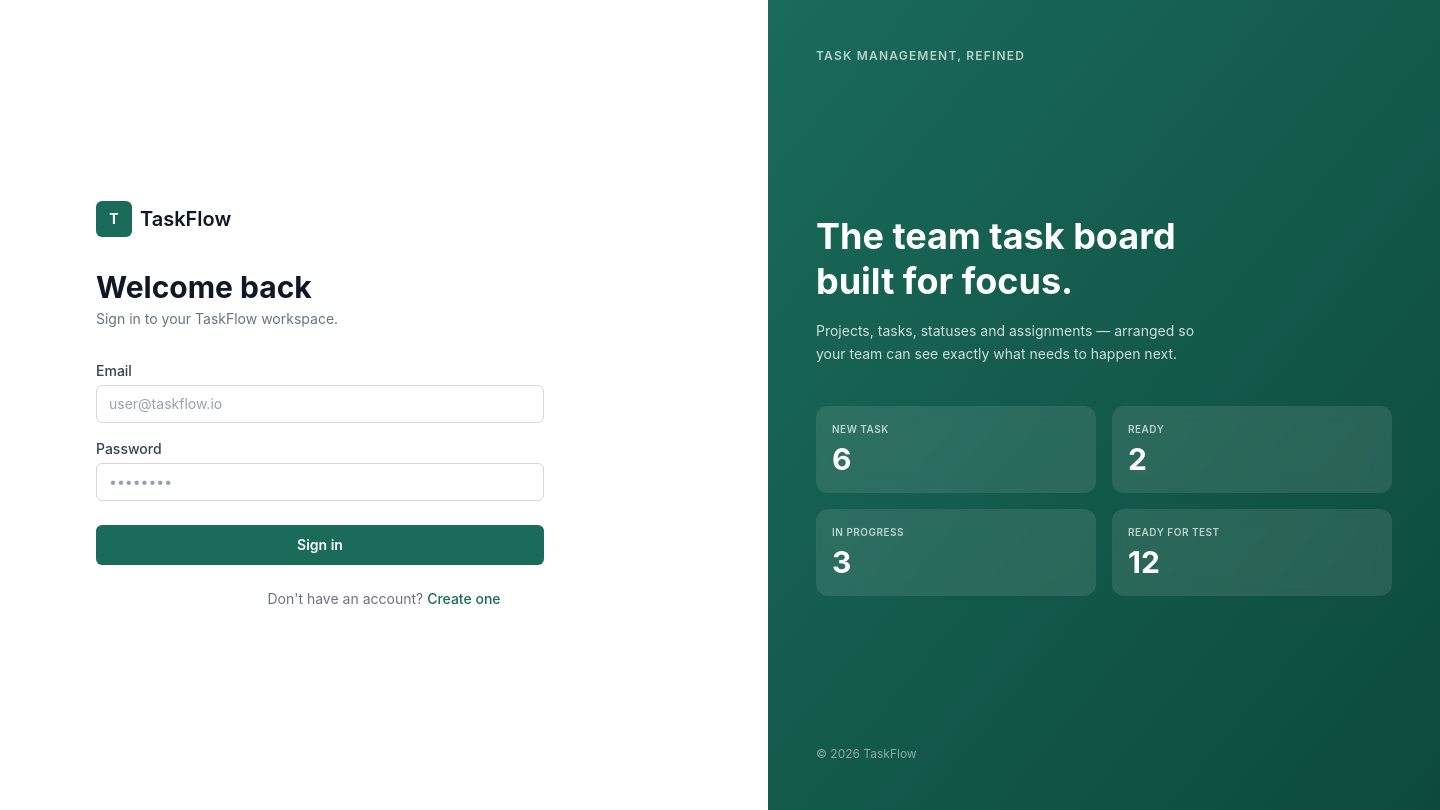
LoginPage Integration Tests › shows validation errors for invalid formats (email or mobile)
The width and height of the screenshot is (1440, 810).
# Try submitting with an invalid email
Type "not-an-email" into the field labelled "Email". click: (320, 404)
box: [96,385,544,423]
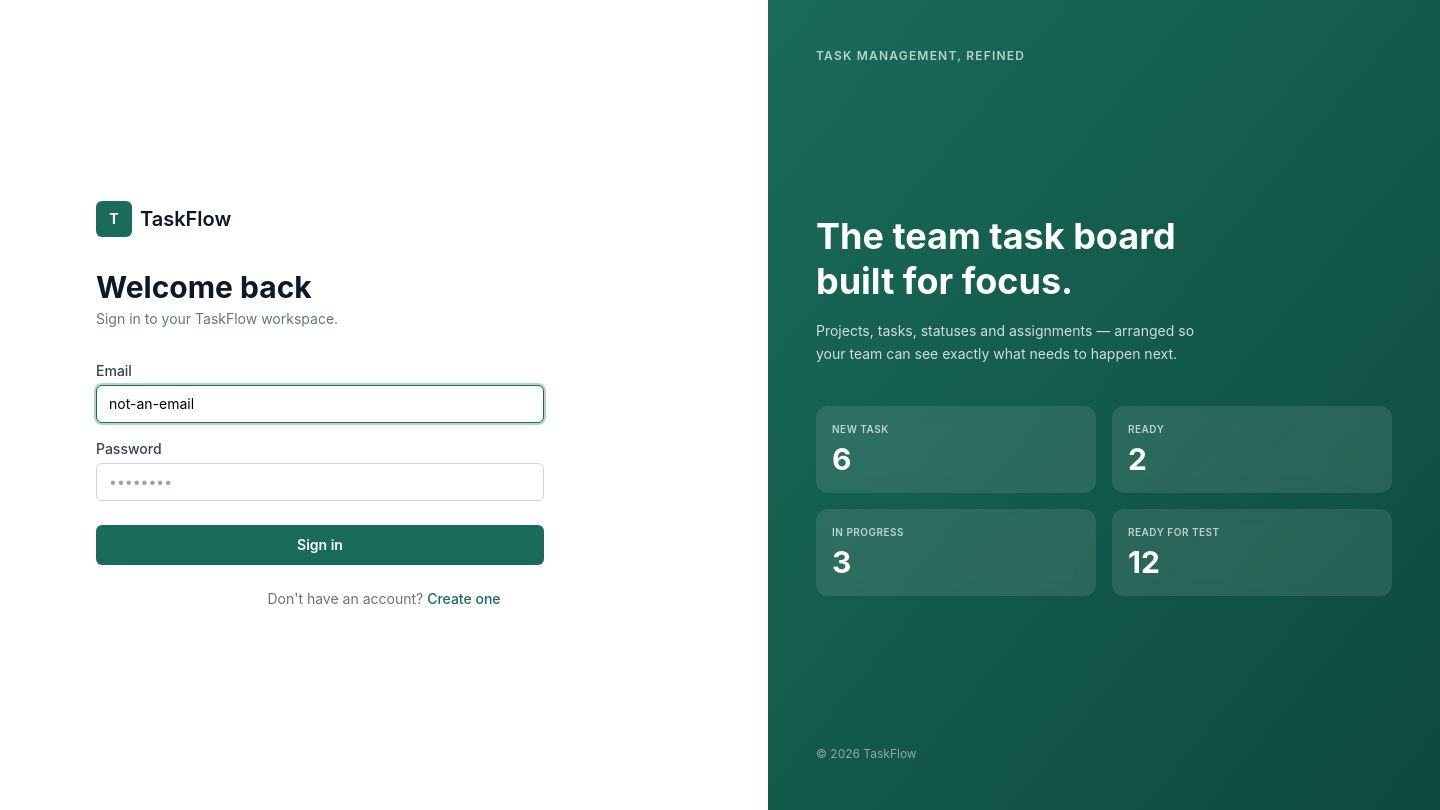
Click the button "Sign in". click: (320, 545)
box: [96,525,544,565]
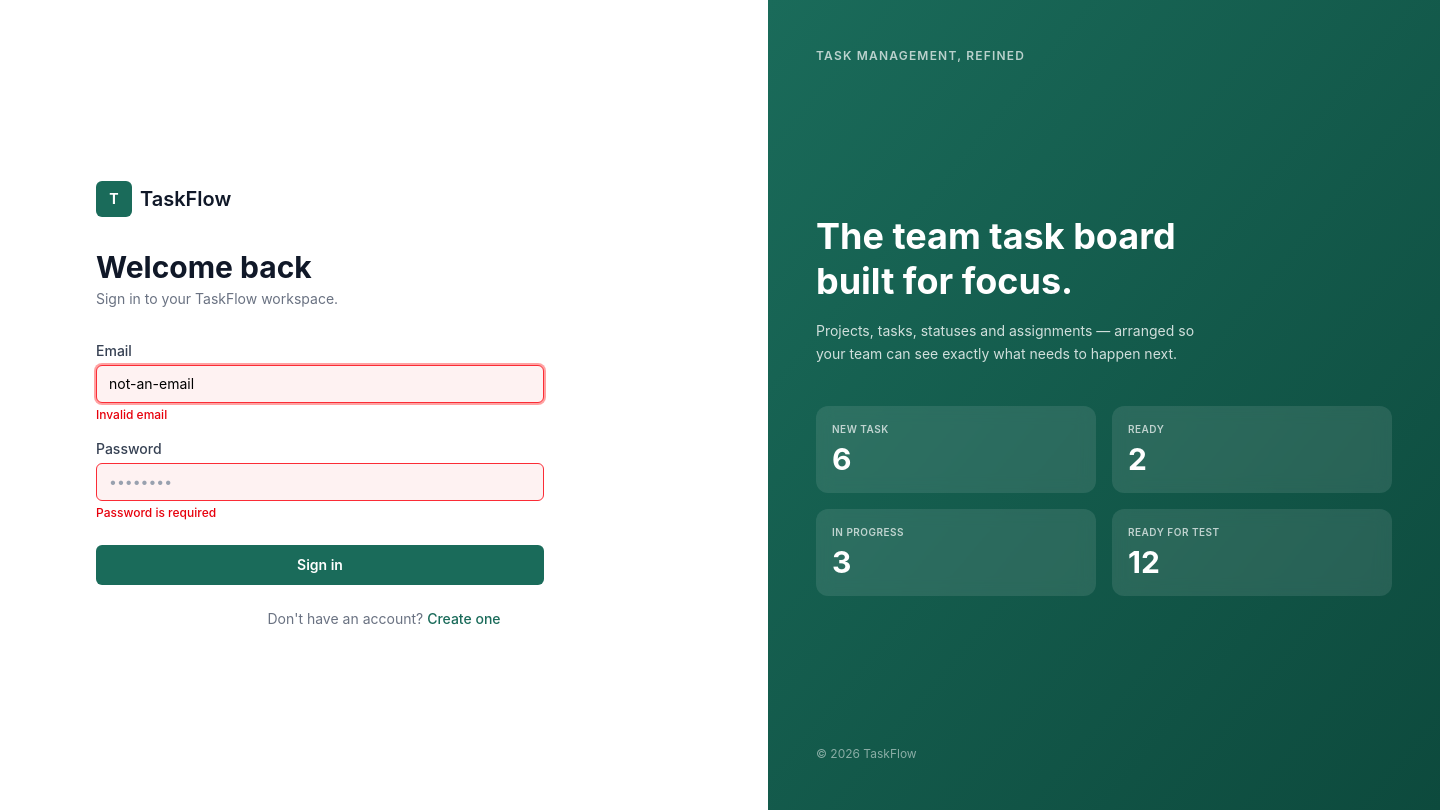
Expected: the text "Invalid email" is shown, [96,407,167,422]
